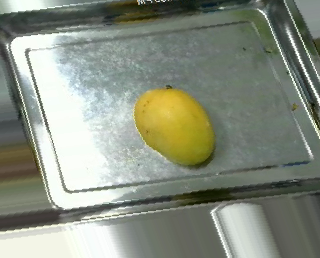Mango: (131, 86, 218, 166)
